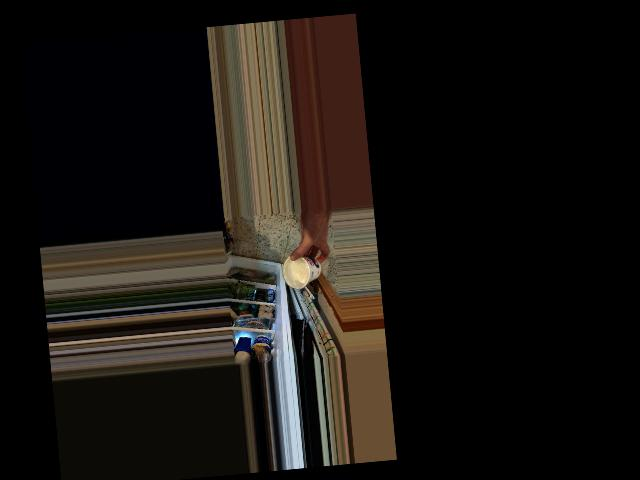cotage: (282, 252, 322, 289)
